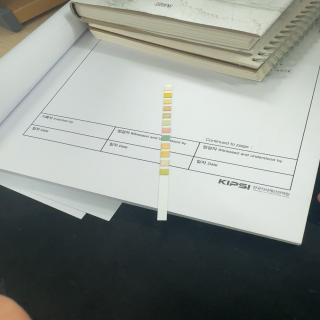mark: (161, 143, 170, 149), (160, 169, 169, 175), (162, 127, 170, 133), (162, 120, 170, 126), (162, 135, 170, 141), (161, 160, 169, 166), (163, 113, 171, 118), (163, 106, 171, 111), (161, 152, 169, 157), (164, 100, 171, 104), (164, 93, 171, 97), (164, 87, 171, 90)
